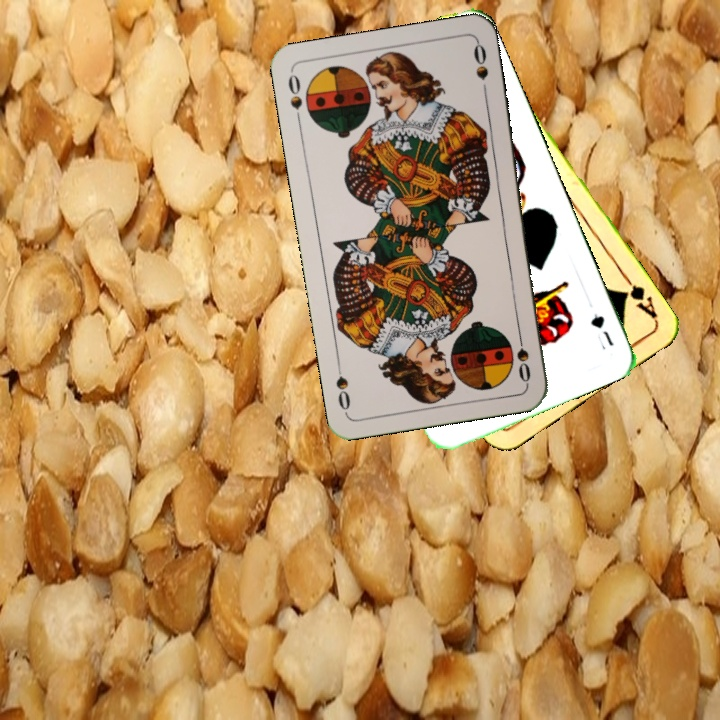GA: (616, 271, 660, 323)
GU: (586, 310, 617, 353)
SO: (512, 326, 533, 385), (284, 70, 305, 128)
